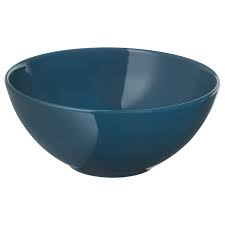bowl: (3, 45, 222, 182)
